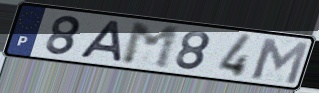4: (214, 33, 254, 80)
8: (43, 14, 82, 57), (174, 29, 213, 71)
A: (75, 19, 125, 64)
M: (120, 21, 182, 71), (249, 36, 311, 86)
